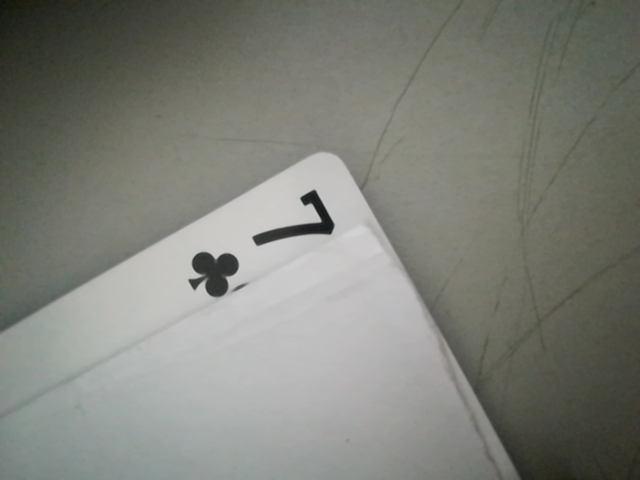mh 7: (166, 181, 364, 301)
